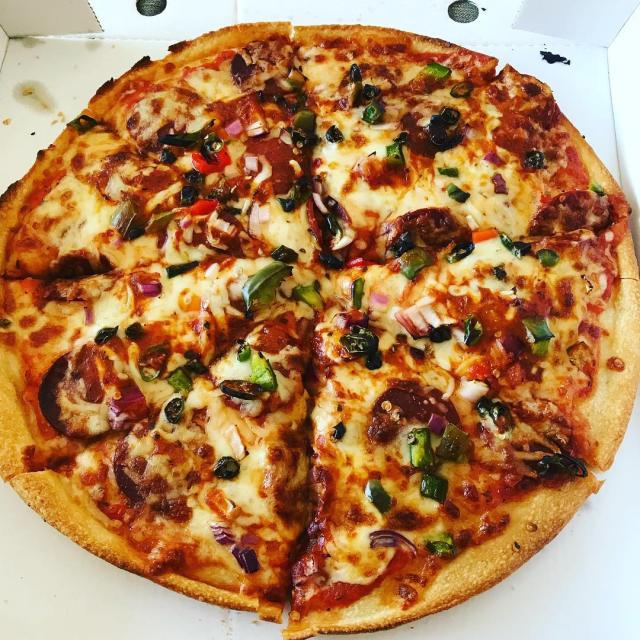pepperoni: (370, 381, 465, 443), (36, 351, 88, 436), (384, 206, 473, 252), (239, 140, 309, 192), (304, 192, 356, 262), (528, 188, 608, 233), (401, 114, 435, 158)
pizza: (0, 19, 640, 640)
